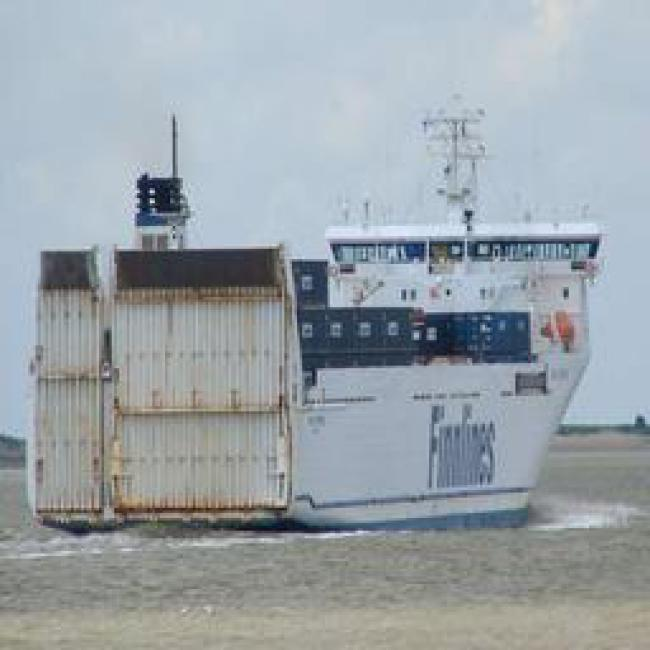Ship: (25, 183, 610, 554)
